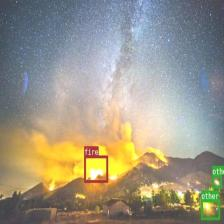fire: (84, 155, 107, 182)
